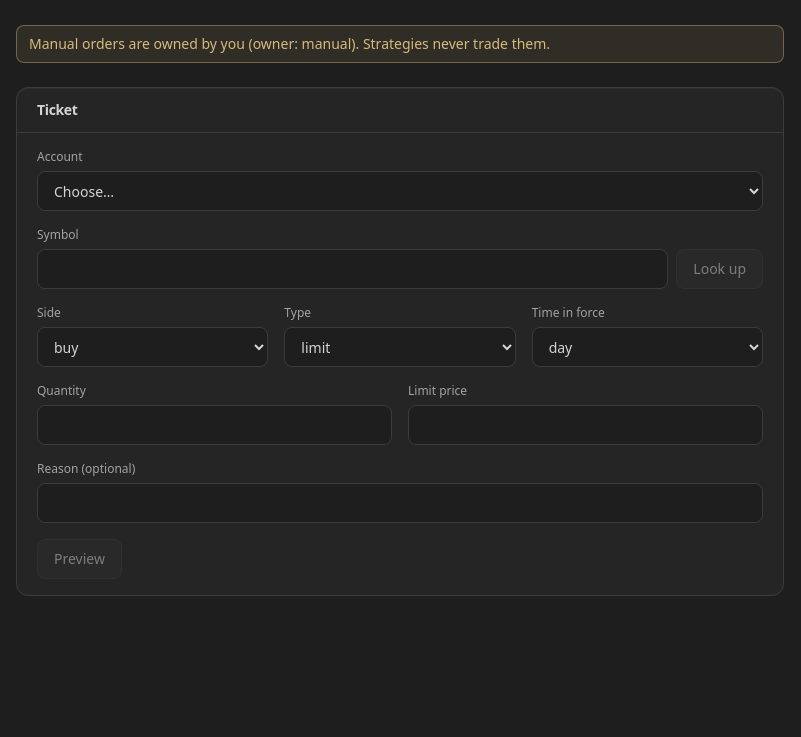
Scenario: Order ticket › UI-015: the preview shows the ownership note and failed checks, and a rejected preview cannot be submitted
This screenshot has width=801, height=737.
Select "alpaca-paper (paper)" in the dropdown labelled "Account" at (400, 191), box [37,171,763,211]
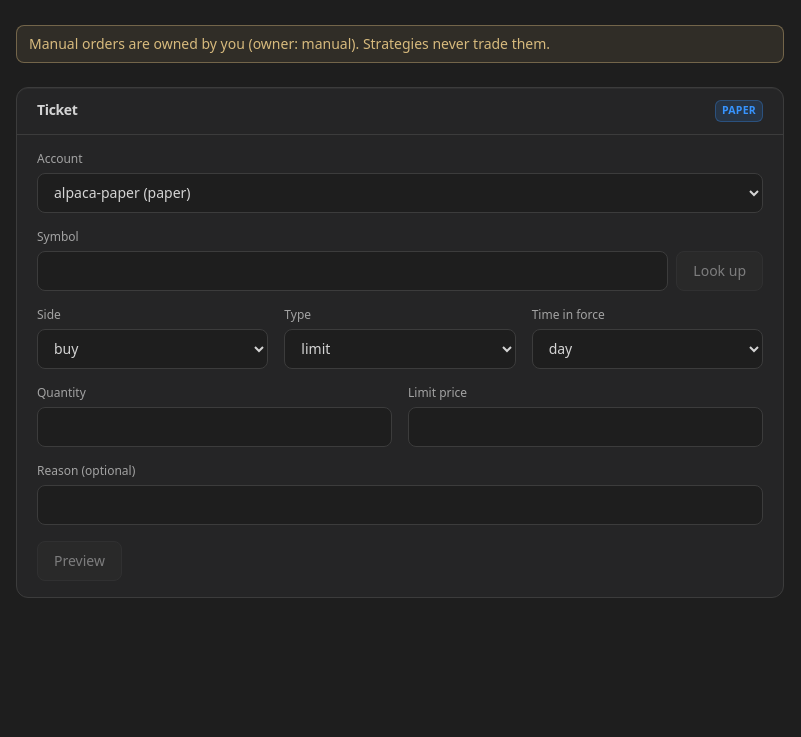
Type "aapl" into the field labelled "Symbol" at (353, 271), box [37,251,668,291]
Click the button "Look up" at (720, 271), box [676,251,763,291]
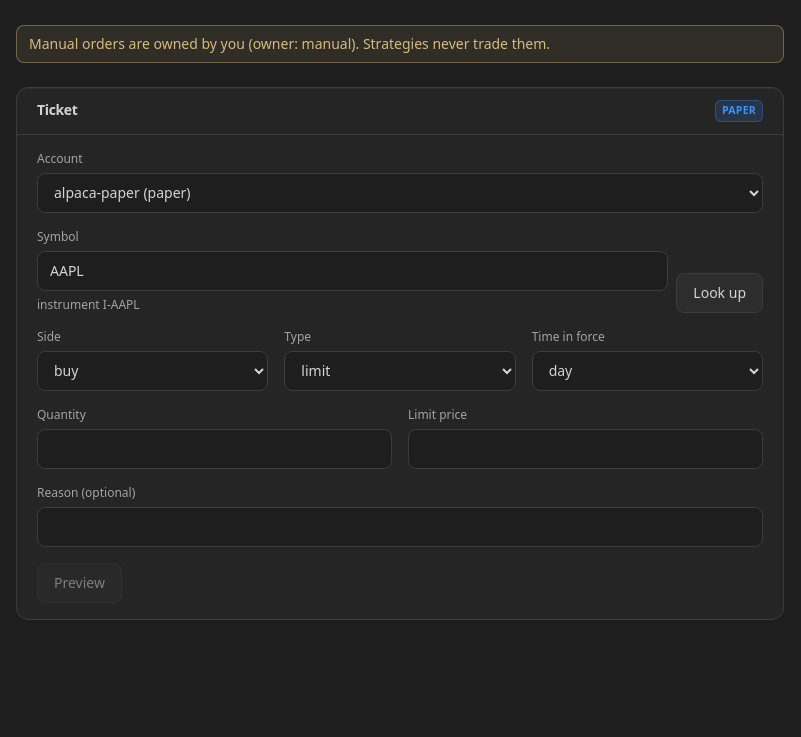
Expected: the text "instrument I-AAPL" is shown, [37,296,140,313]
Select "sell" in the dropdown labelled "Side" at (153, 371), box [37,351,268,391]
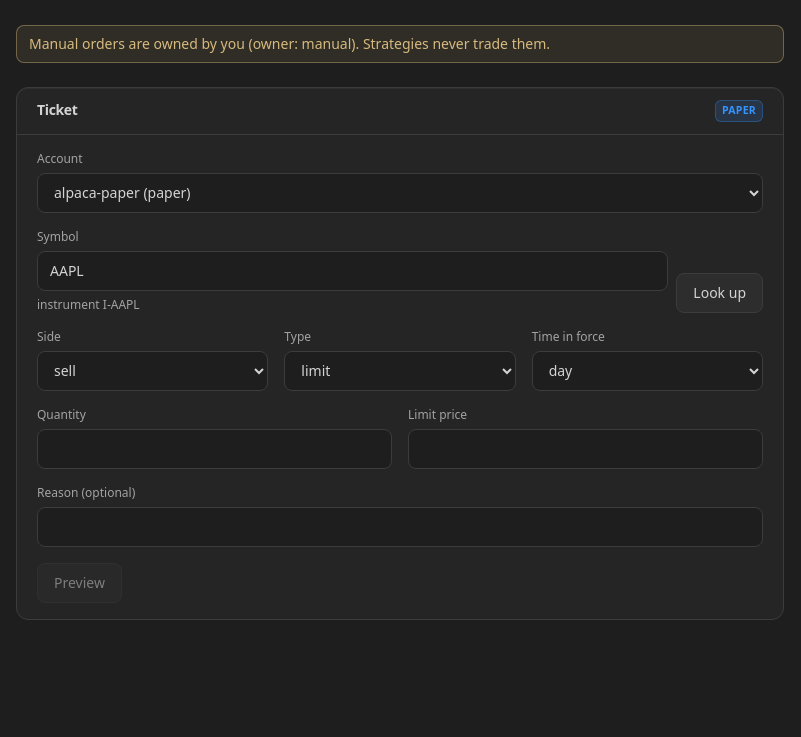
Type "120" into the field labelled "Quantity" at (214, 449), box [37,429,392,469]
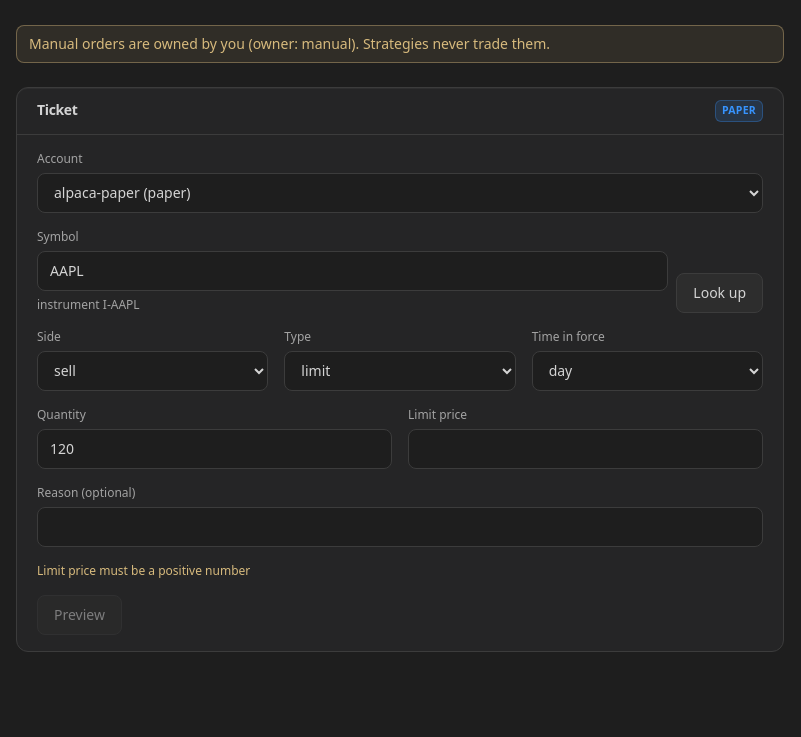
Type "190.10" into the field labelled "Limit price" at (586, 449), box [408,429,763,469]
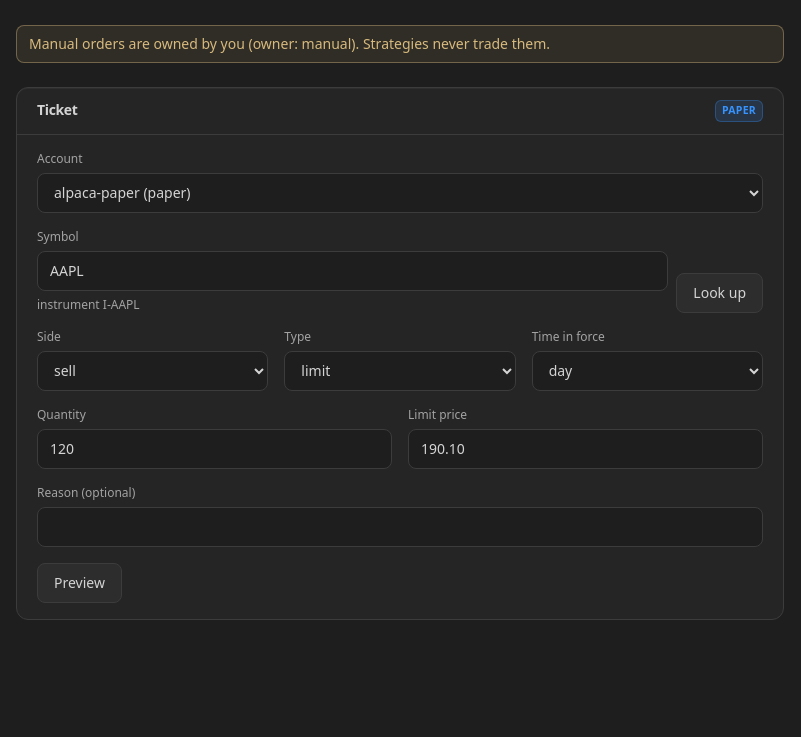
Click the button "Preview" at (79, 583), box [37,563,122,603]
(page scrolled)
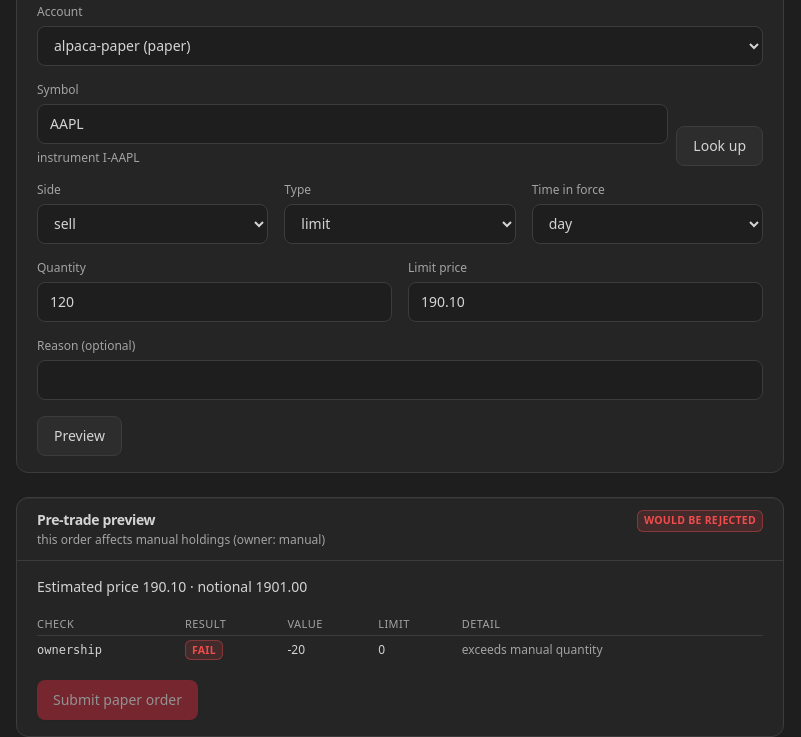
Expected: the text "this order affects manual holdings (owner: manual)" is shown, [37,532,325,548]
Expected: the text "exceeds manual quantity" is shown, [462,636,763,664]
Expected: the text "1901.00" is shown, [255,577,307,596]
